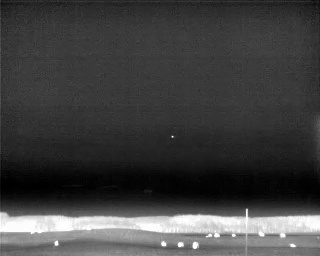BIRD: (170, 133, 176, 140)
